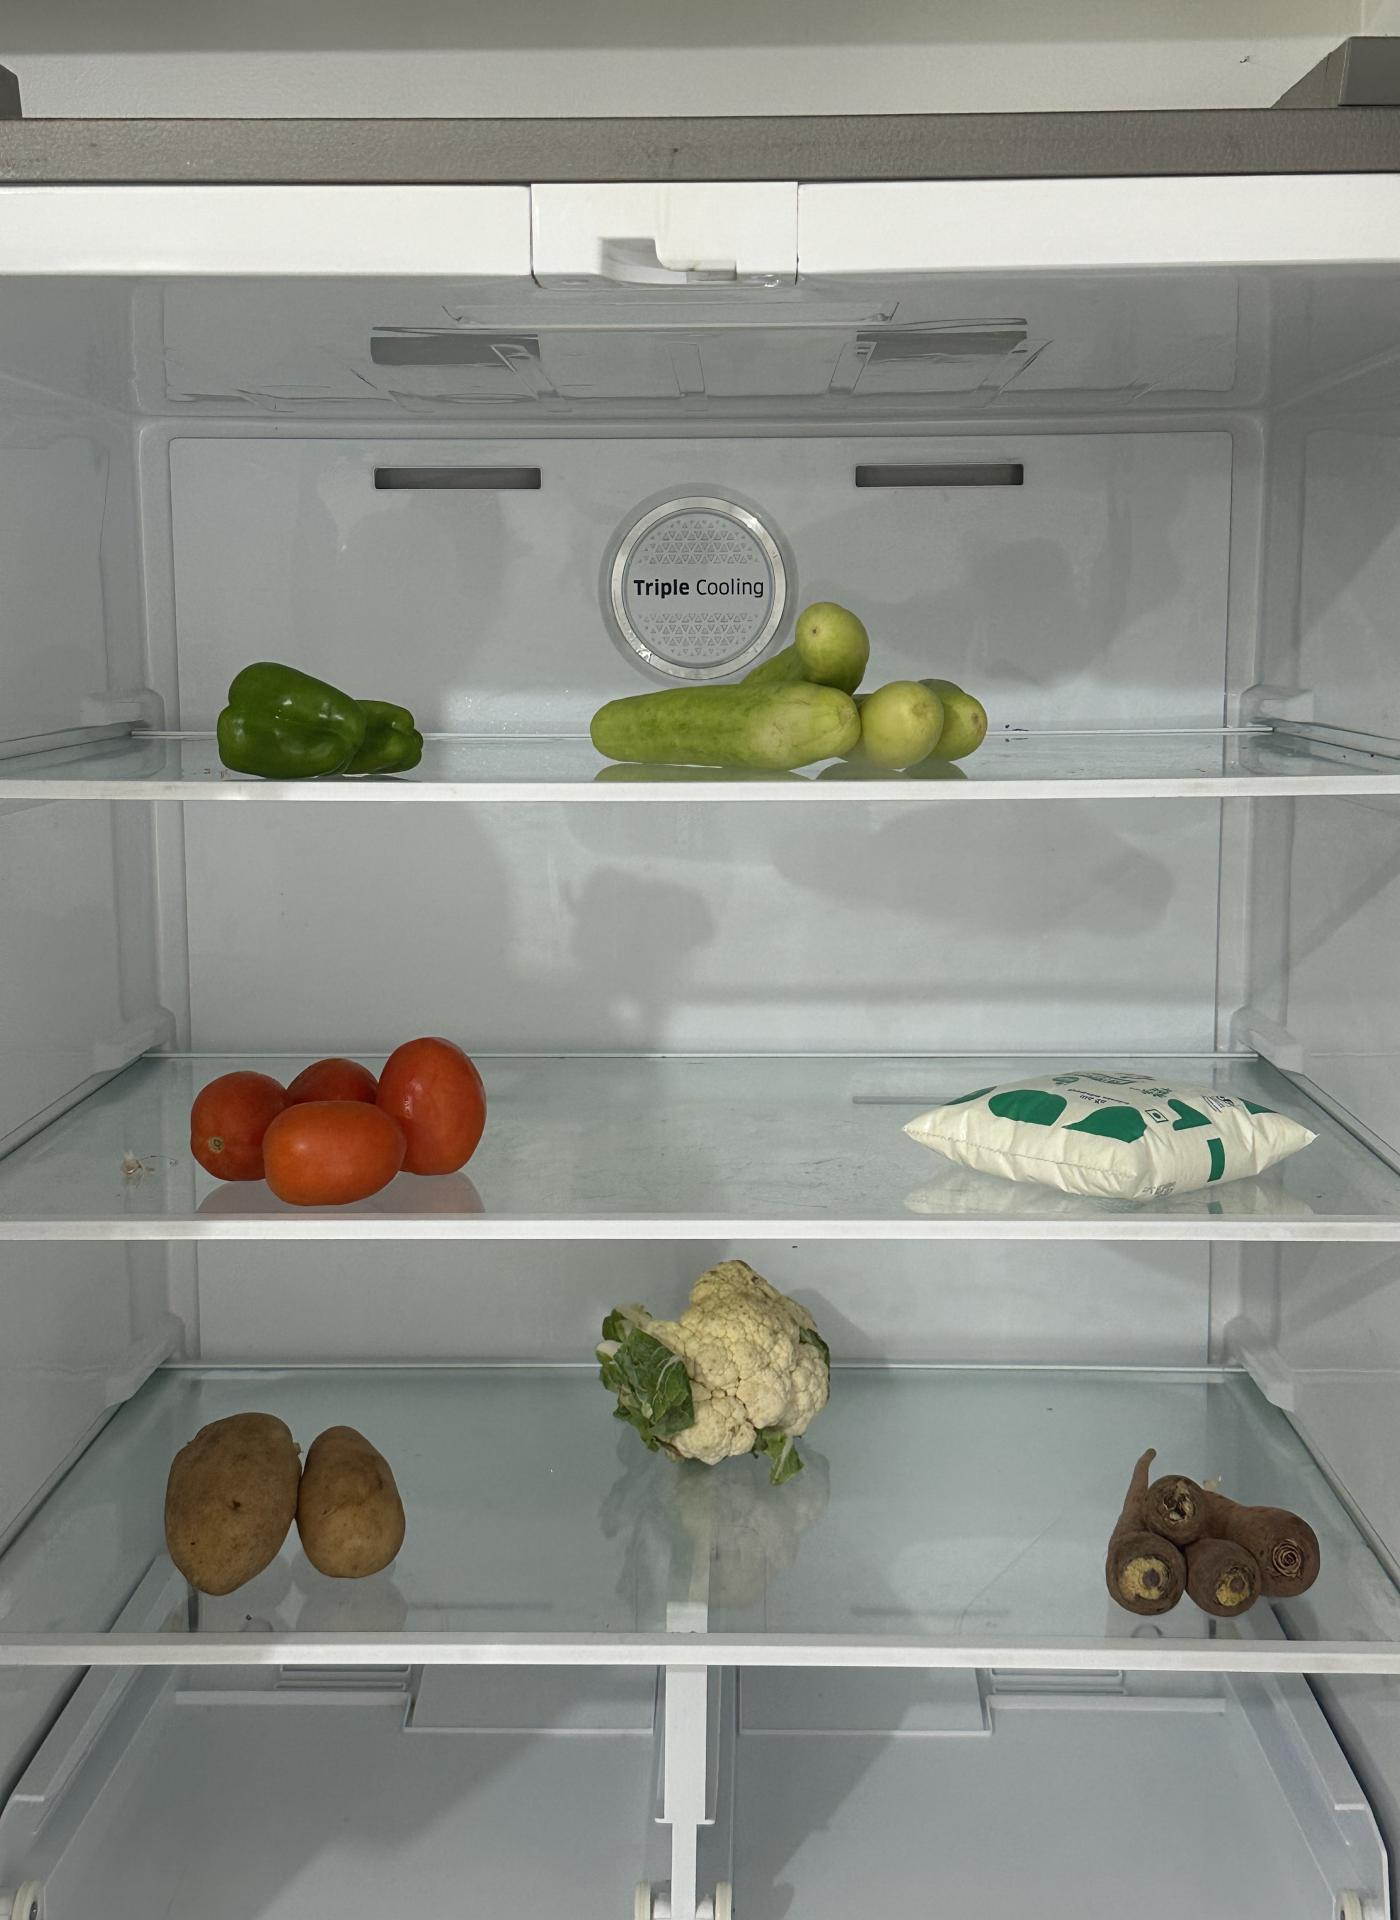capsicum: (218, 665, 429, 786)
carrots: (1102, 1452, 1321, 1619)
cauliflower: (604, 1258, 832, 1467)
cucumber: (584, 607, 986, 774)
milk: (914, 1051, 1319, 1200)
potato: (165, 1413, 404, 1598)
tomato: (179, 1038, 495, 1201)
